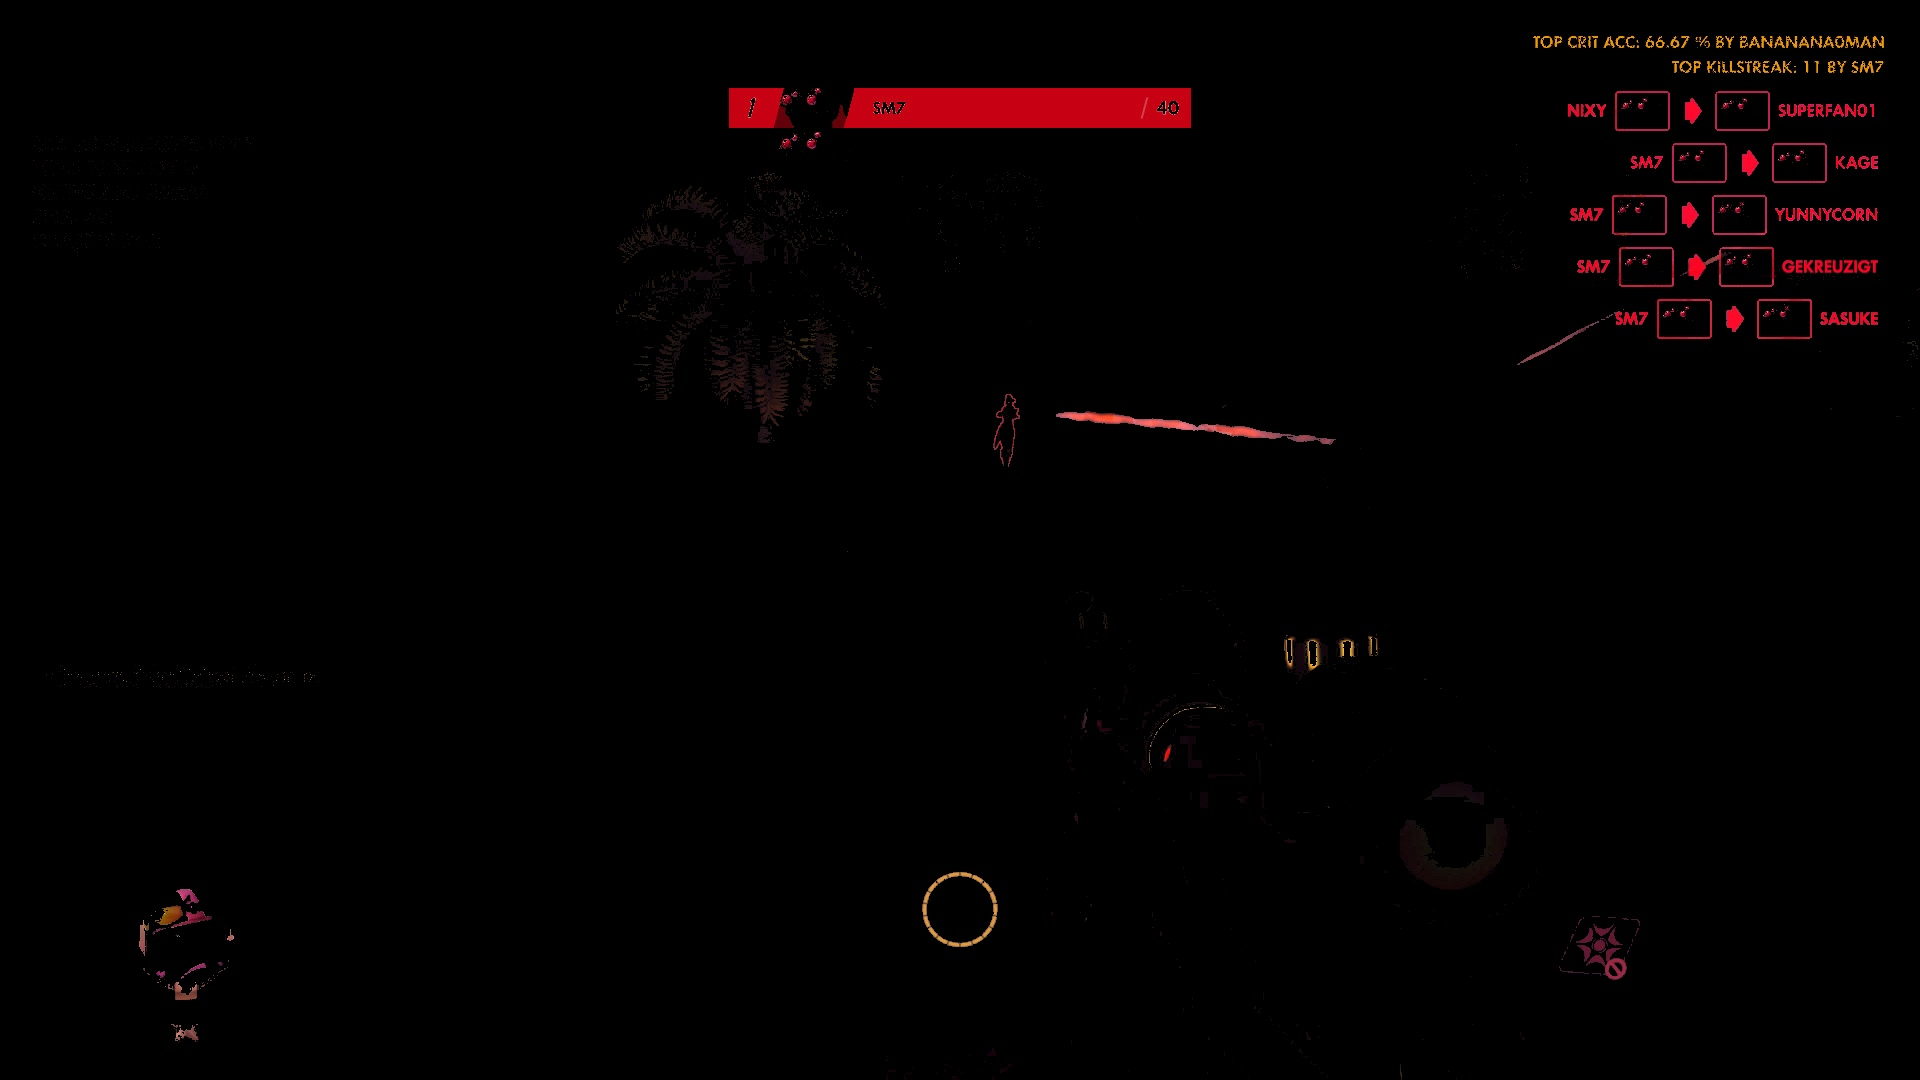widowmaker: (992, 393, 1027, 477)
